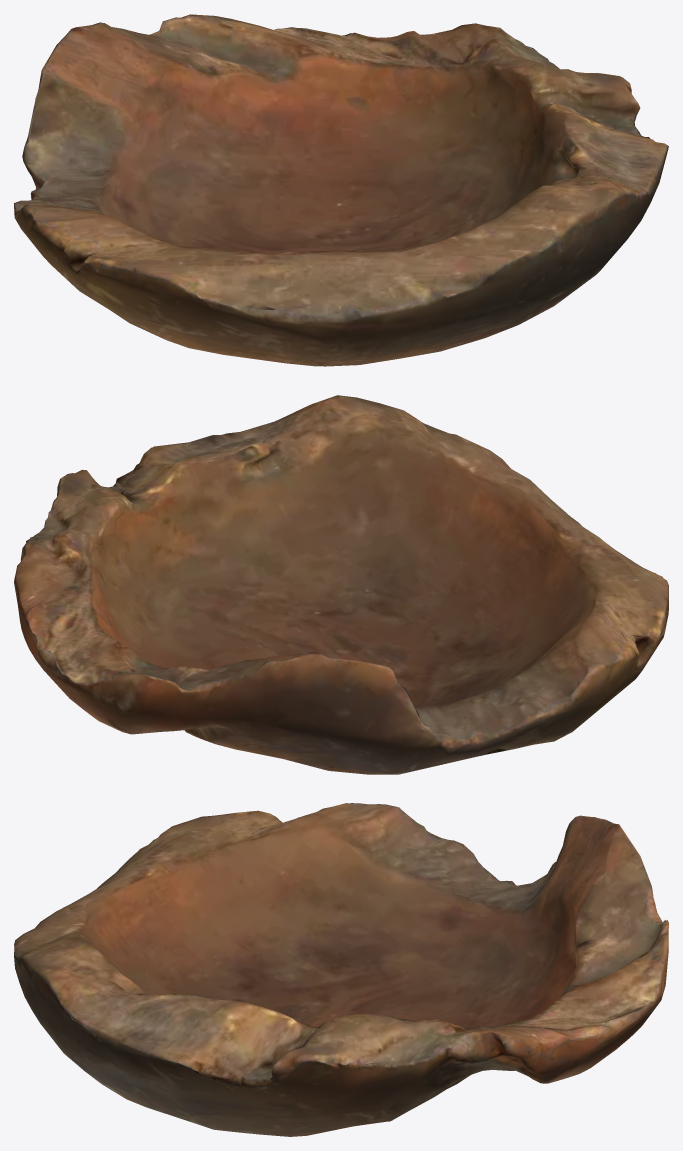
3 views of the same model, one above another, from view 1: azimuth 30°, elevation 25°; view 2: azimuth 150°, elevation 25°; view 3: azimuth 270°, elevation 25° (orthographic). The views are drawn at different scales.
Visible parts, largest first — view 1: wooden_bowl_01; view 2: wooden_bowl_01; view 3: wooden_bowl_01.
Boxes of the visible parts, x1=… form: wooden_bowl_01: x1=14, y1=14, x2=668, y2=366; wooden_bowl_01: x1=14, y1=395, x2=668, y2=774; wooden_bowl_01: x1=14, y1=803, x2=668, y2=1136.
Size of the model in its own units: 0.3131 by 0.0938 by 0.309.
1 material, 1 textured.
